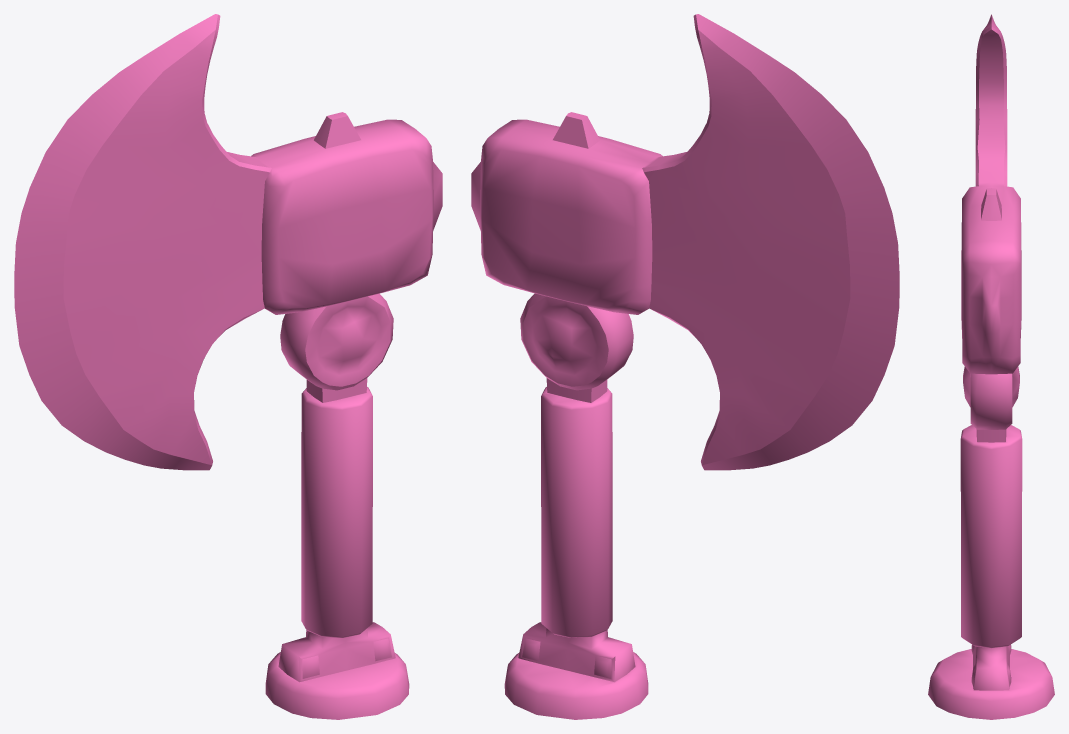
Rendered from PortalMageAxe.fbx.
3 renders of one model, left to right at view 1: azimuth 30°, elevation 25°; view 2: azimuth 150°, elevation 25°; view 3: azimuth 270°, elevation 25°, orthographic. The views are drawn at different scales.
Visible parts, largest first — view 1: PortalMageAxe; view 2: PortalMageAxe; view 3: PortalMageAxe.
Boxes of the visible parts, x1=… form: PortalMageAxe: x1=14, y1=14, x2=442, y2=719; PortalMageAxe: x1=471, y1=14, x2=899, y2=719; PortalMageAxe: x1=928, y1=14, x2=1054, y2=719.
Size of the model in its own units: 3.34 by 5.29 by 0.9863.
